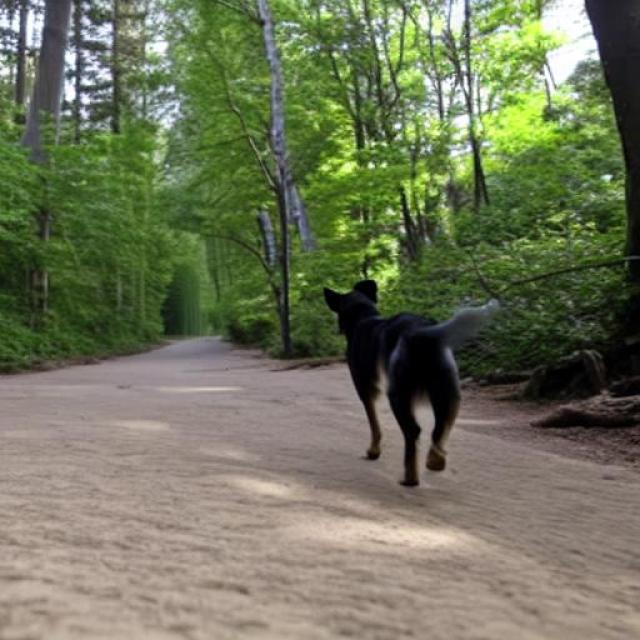Dog: (322, 280, 498, 490)
